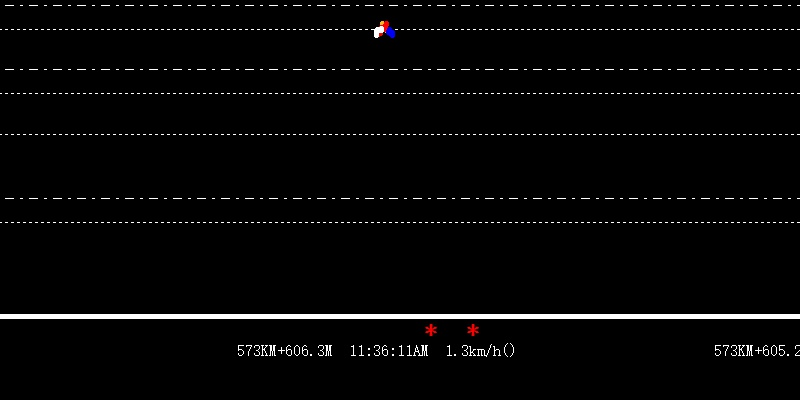face_2: (370, 18, 397, 41)
star: (422, 321, 439, 338), (465, 320, 480, 339)
